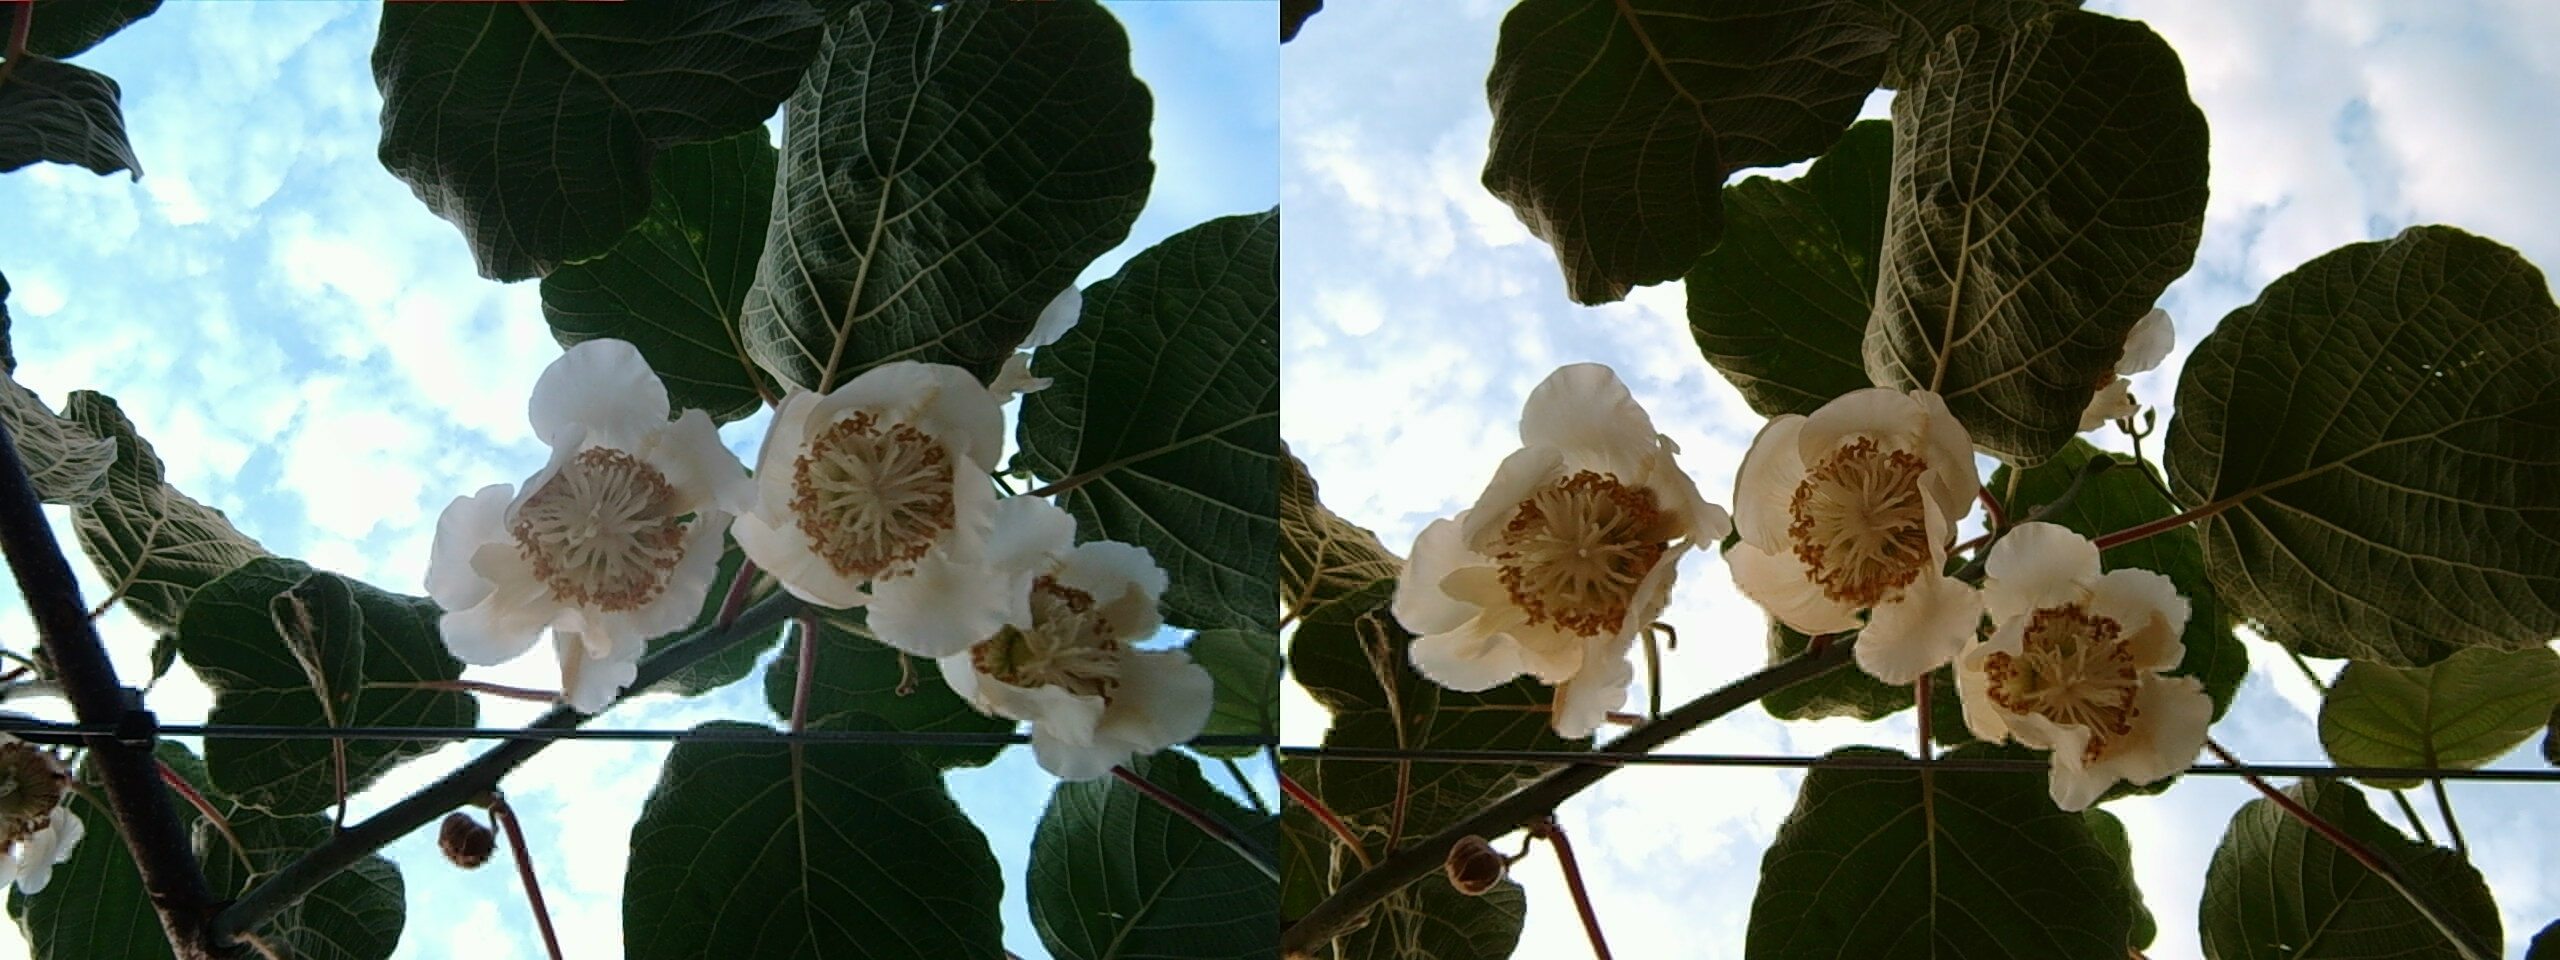flower: (429, 353, 738, 687), (1406, 362, 1709, 699), (1954, 534, 2212, 798), (741, 359, 999, 616), (1729, 377, 1972, 638), (949, 527, 1198, 769)
